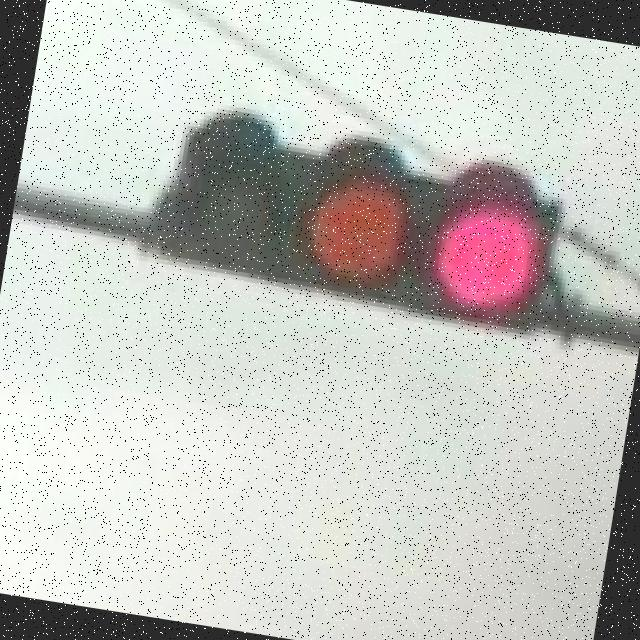Zolte swiatlo: (80, 80, 299, 546)
